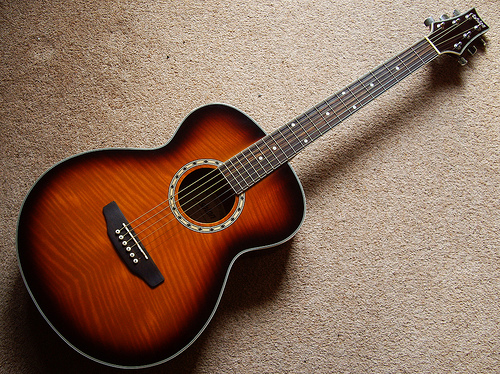guitar: (15, 7, 491, 374)
